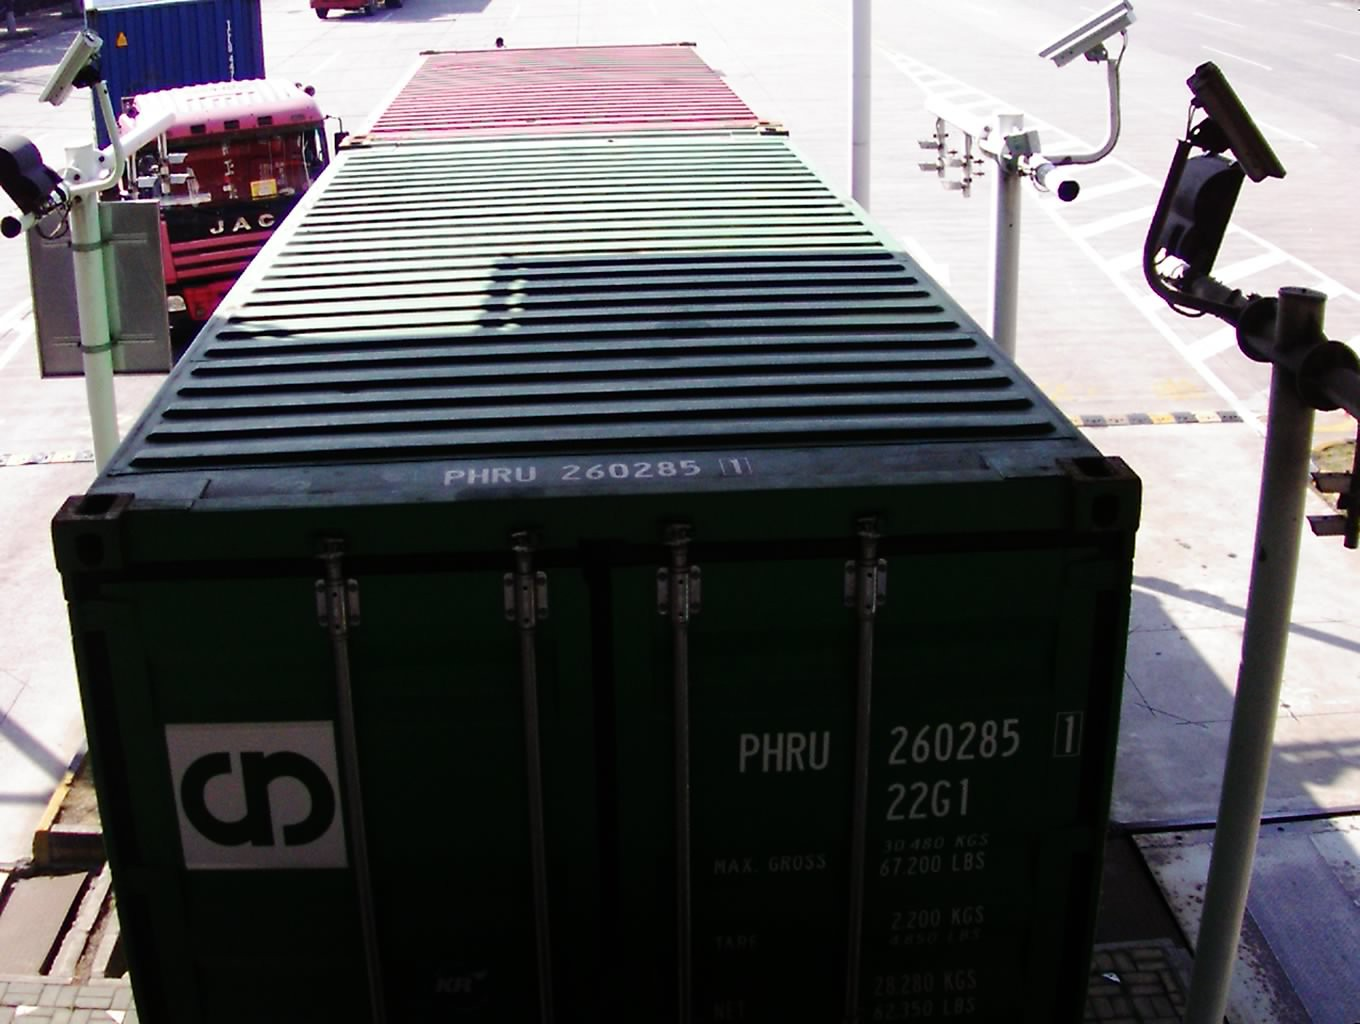words: (881, 721, 1032, 768), (730, 725, 838, 779), (878, 781, 985, 824), (1046, 703, 1092, 764)
